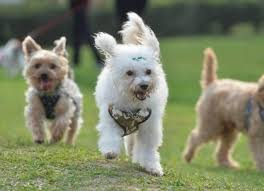dog: (93, 43, 174, 103), (15, 34, 76, 99)
